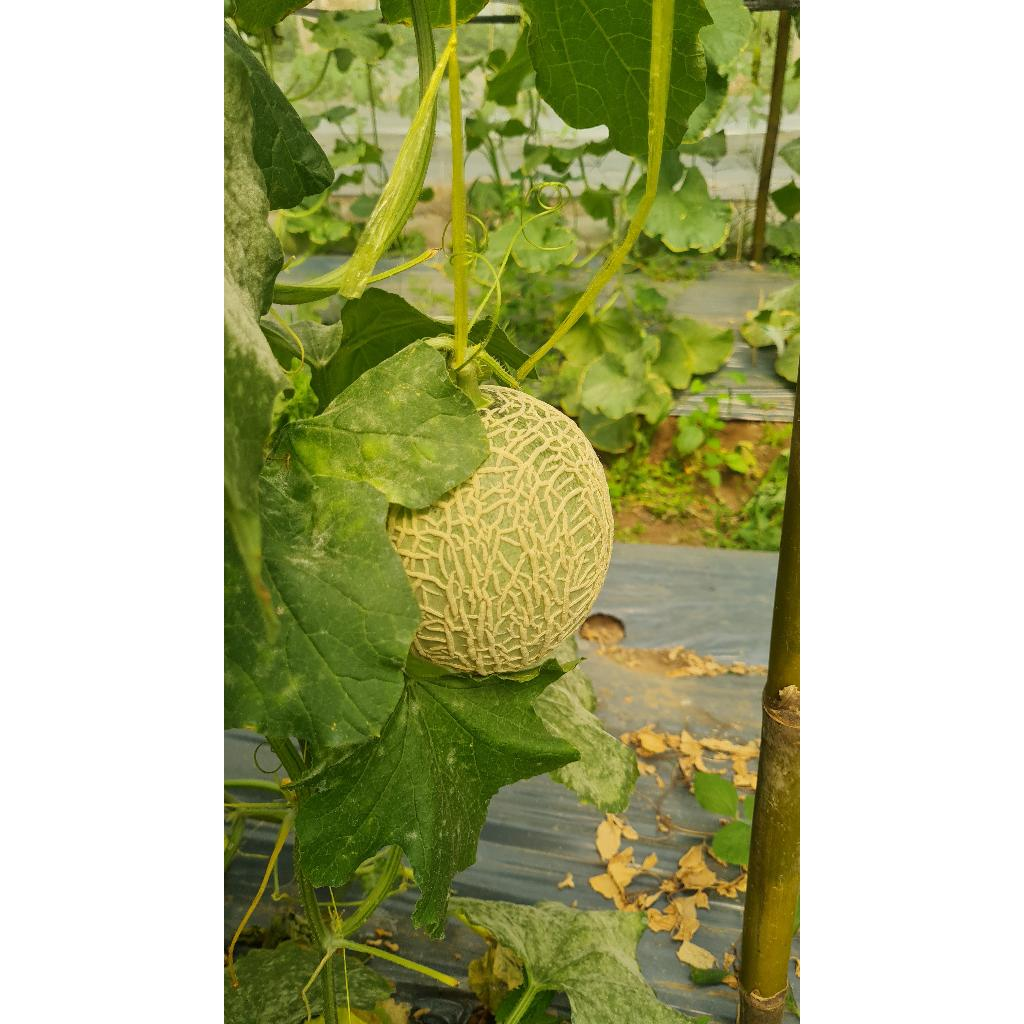melon: (388, 386, 614, 674)
